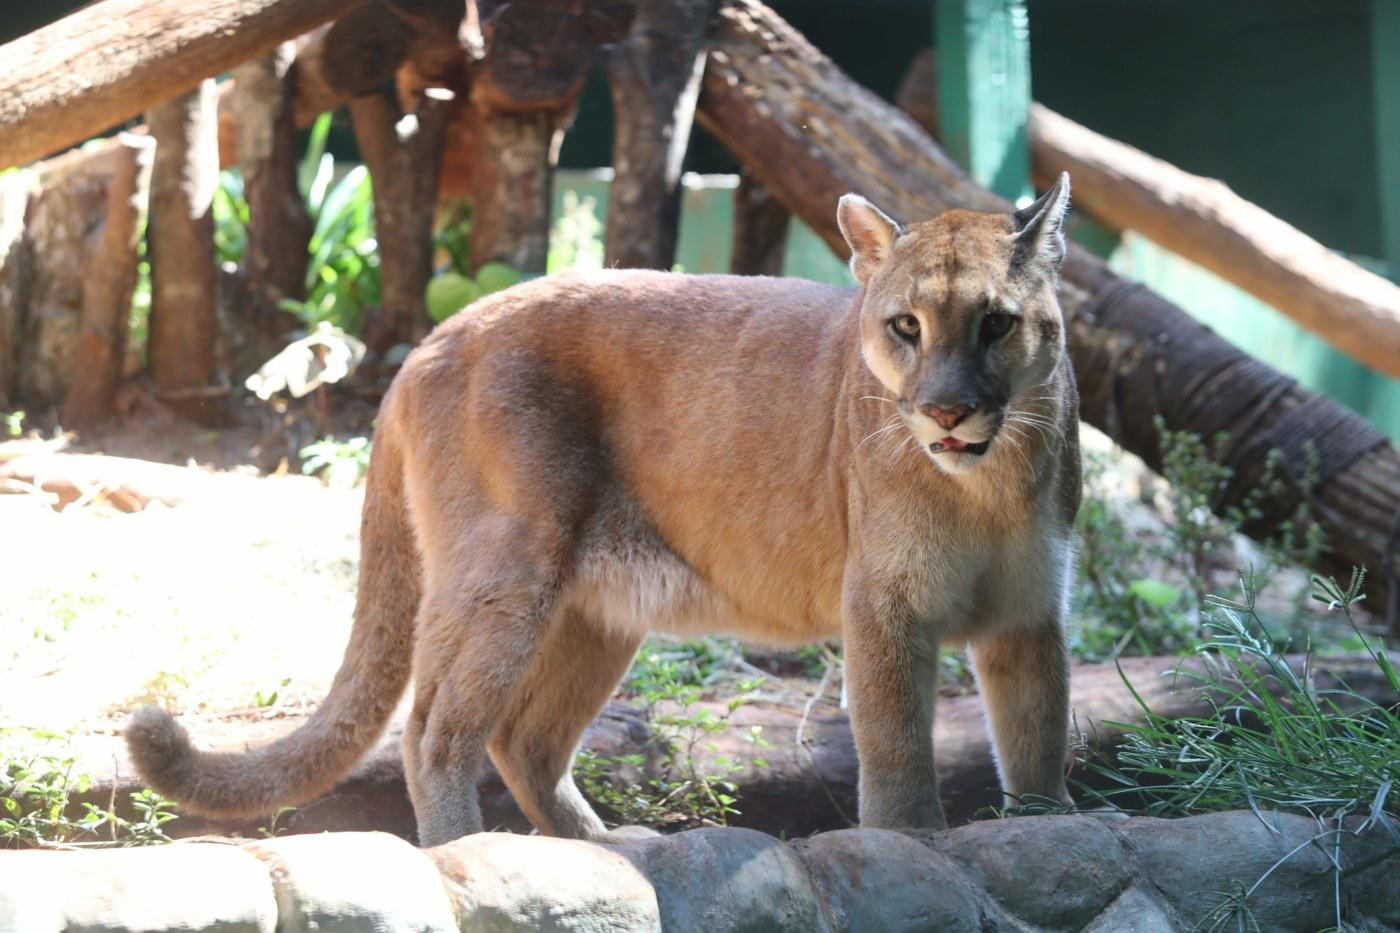OncaParda: (126, 166, 1119, 862)
